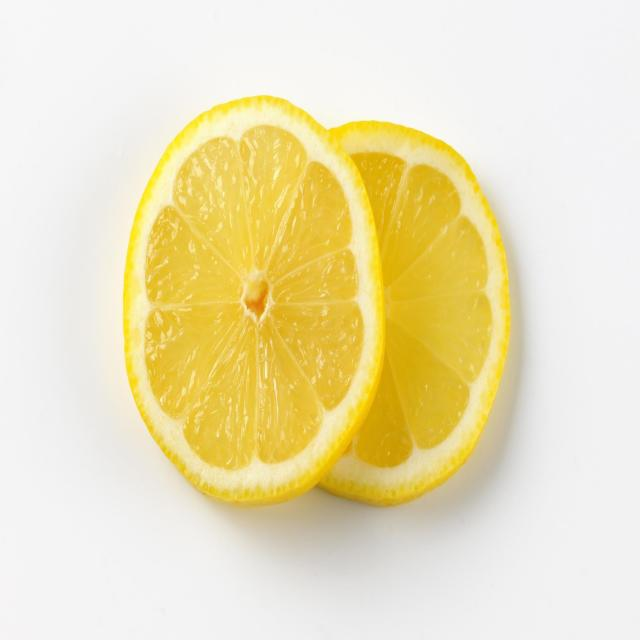lemon: (118, 89, 391, 511)
